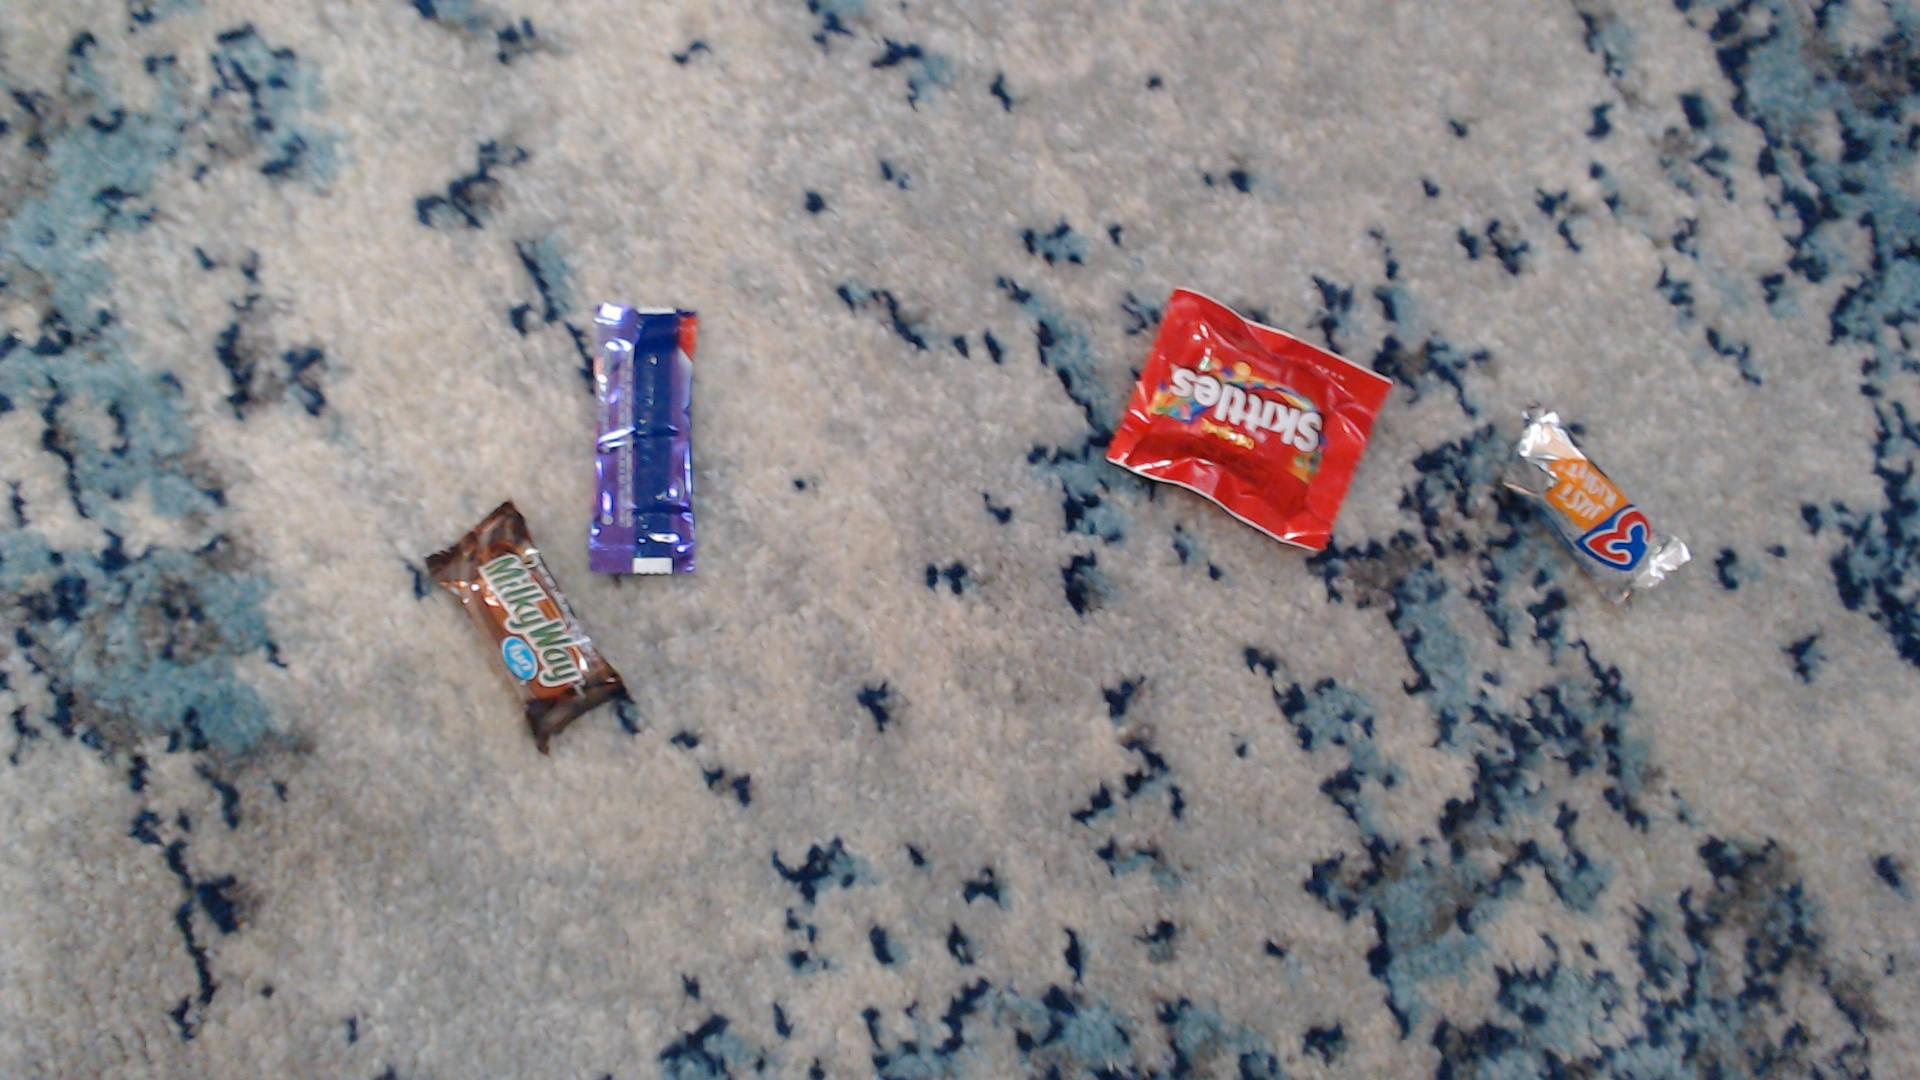airheads: (589, 305, 702, 571)
milky_way: (421, 497, 632, 754)
skittles: (1106, 289, 1395, 553)
three: (1501, 406, 1691, 600)
